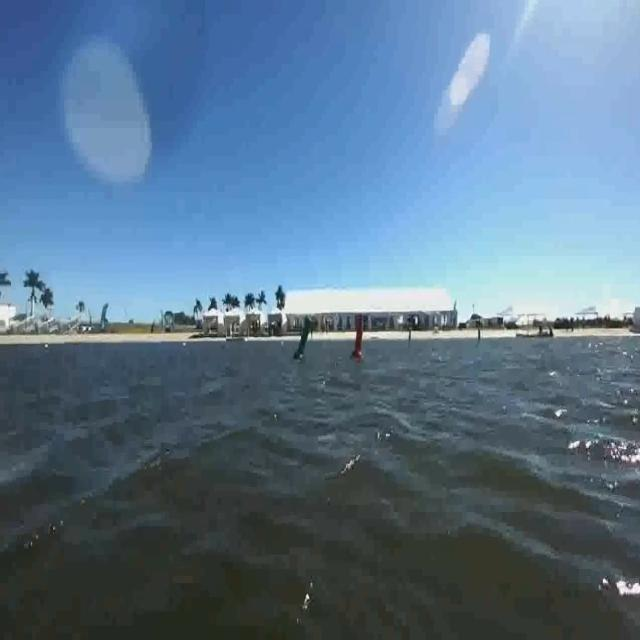green-column-buoy: (290, 309, 316, 368)
red-column-buoy: (351, 302, 369, 372)
